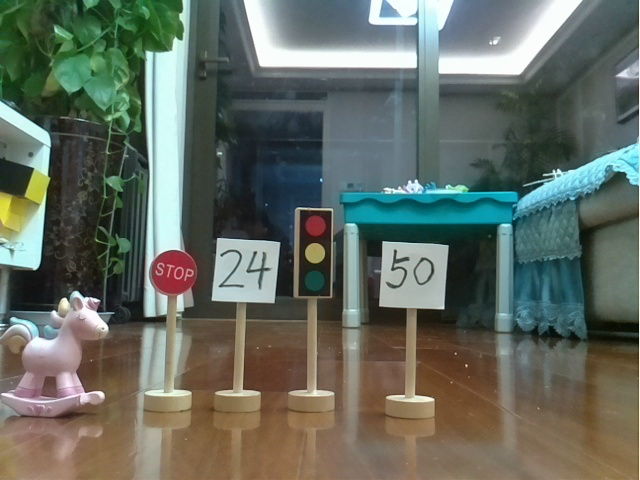Horse: (1, 288, 112, 422)
Red Traffic Light: (291, 201, 342, 415)
Speed Limit 24: (212, 232, 282, 415)
Speed Limit 50: (374, 231, 455, 426)
Stop Sign: (140, 247, 200, 415)
